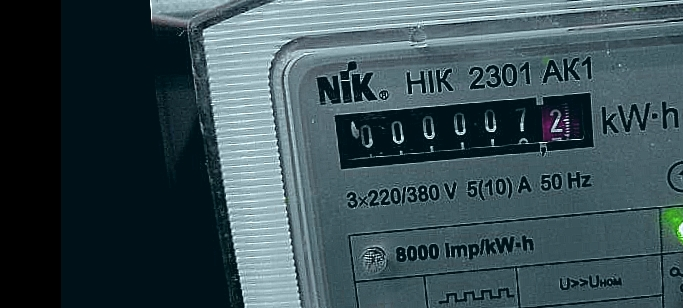0: (357, 120, 376, 148), (389, 116, 407, 144), (451, 108, 469, 136), (420, 111, 437, 140), (482, 106, 499, 134)
2: (548, 107, 565, 134)
7: (513, 103, 530, 134)
screen: (323, 85, 607, 174)
